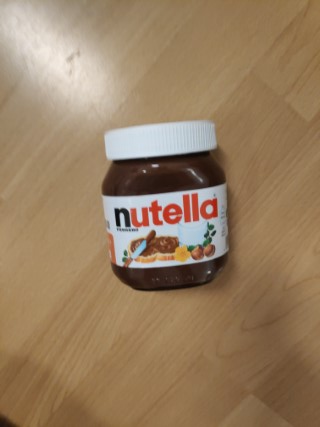nutella: (98, 118, 230, 292)
